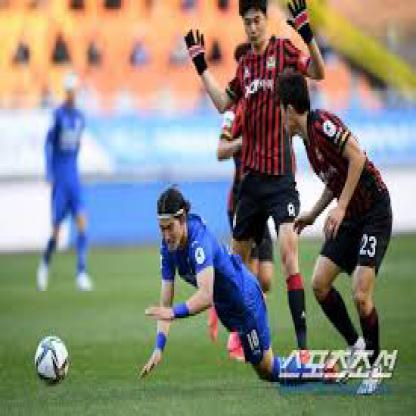Fall_Down: (136, 183, 341, 388)
